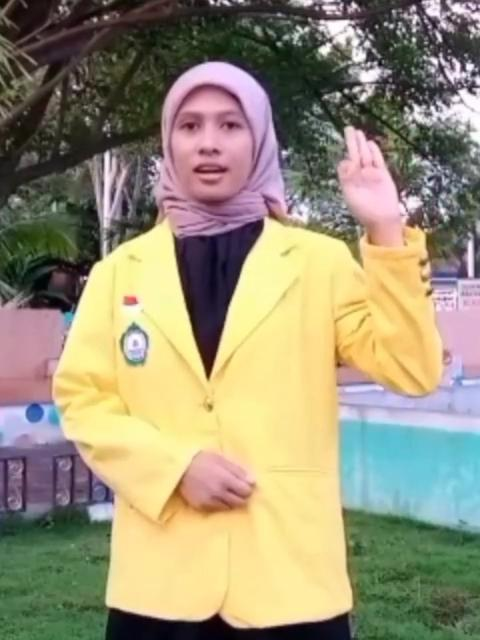F: (336, 124, 401, 236)
